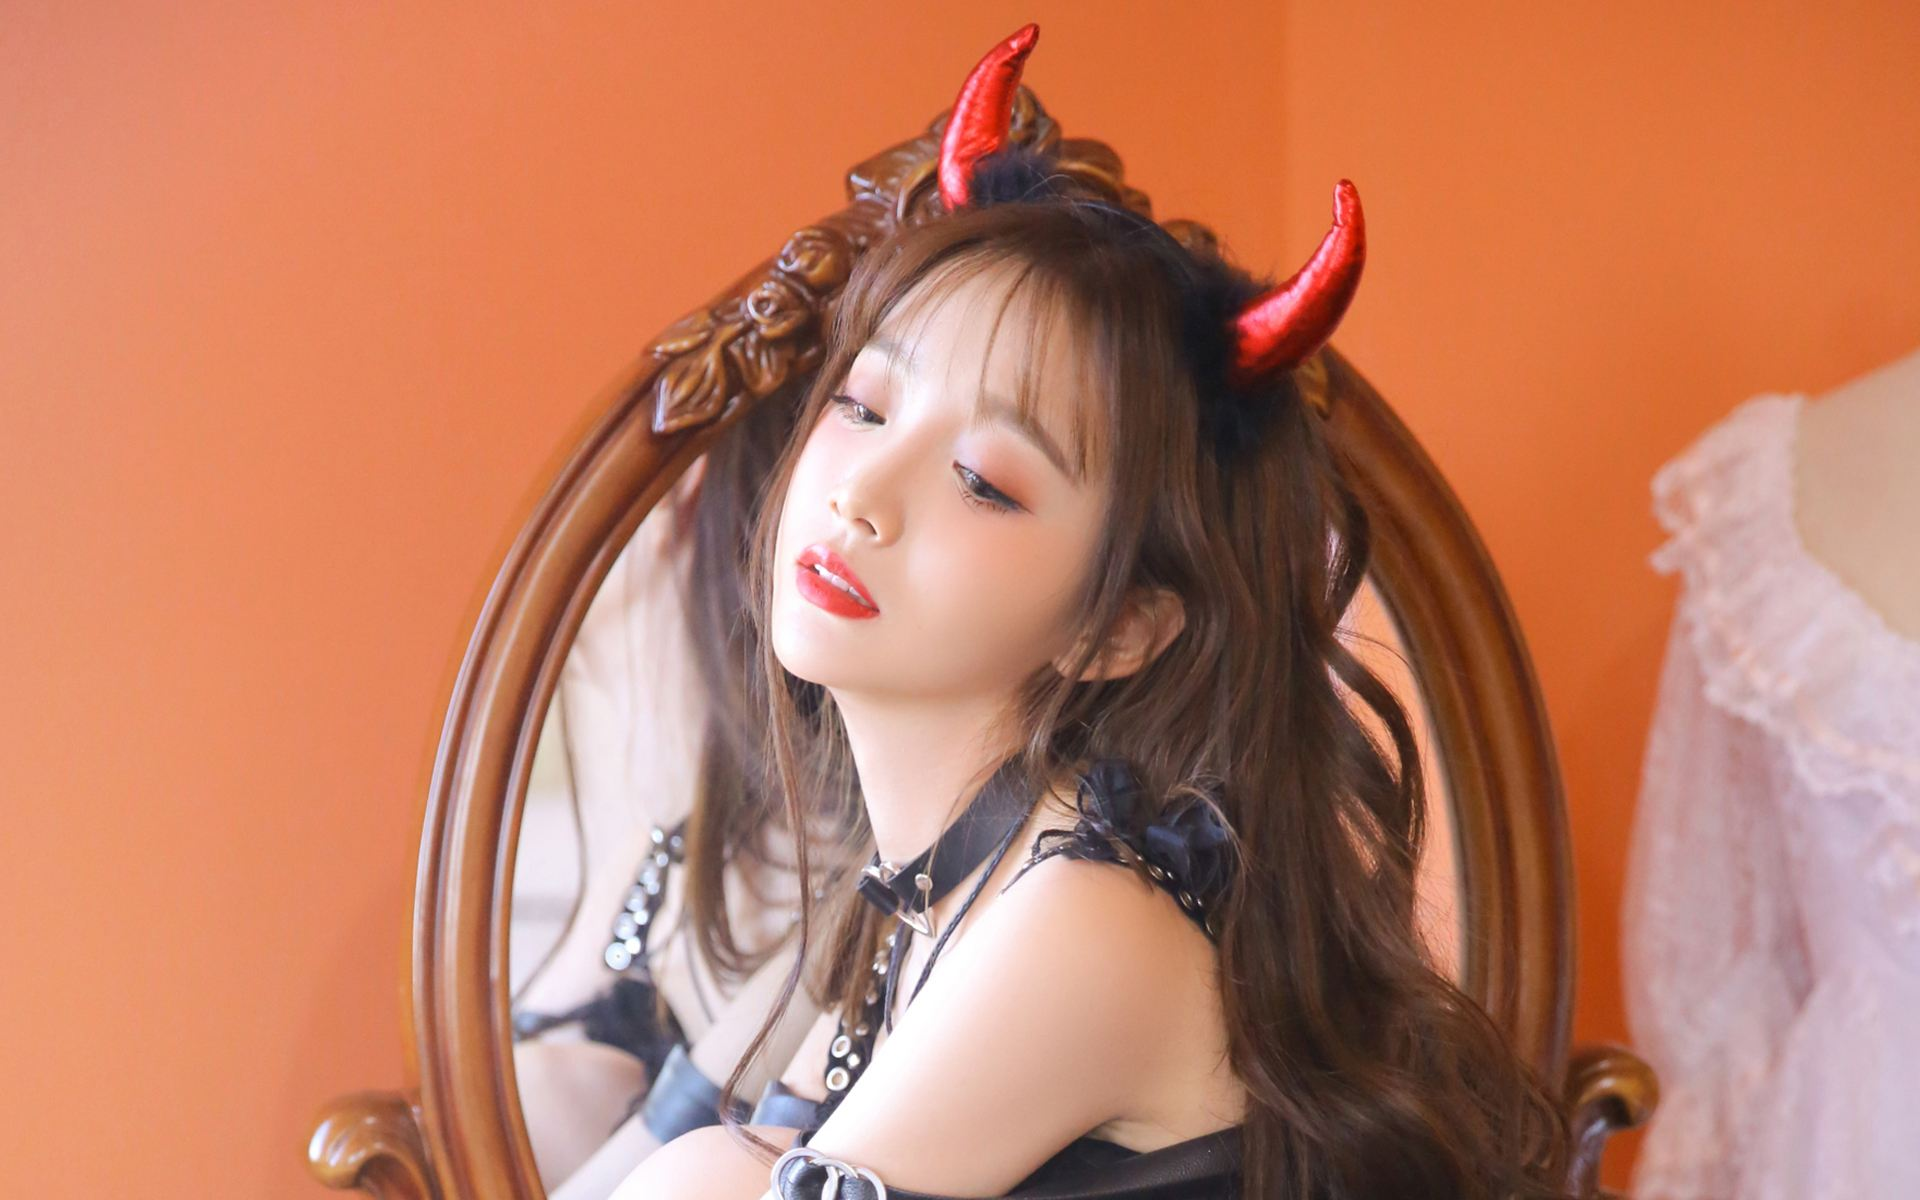person: (545, 181, 1437, 1108)
